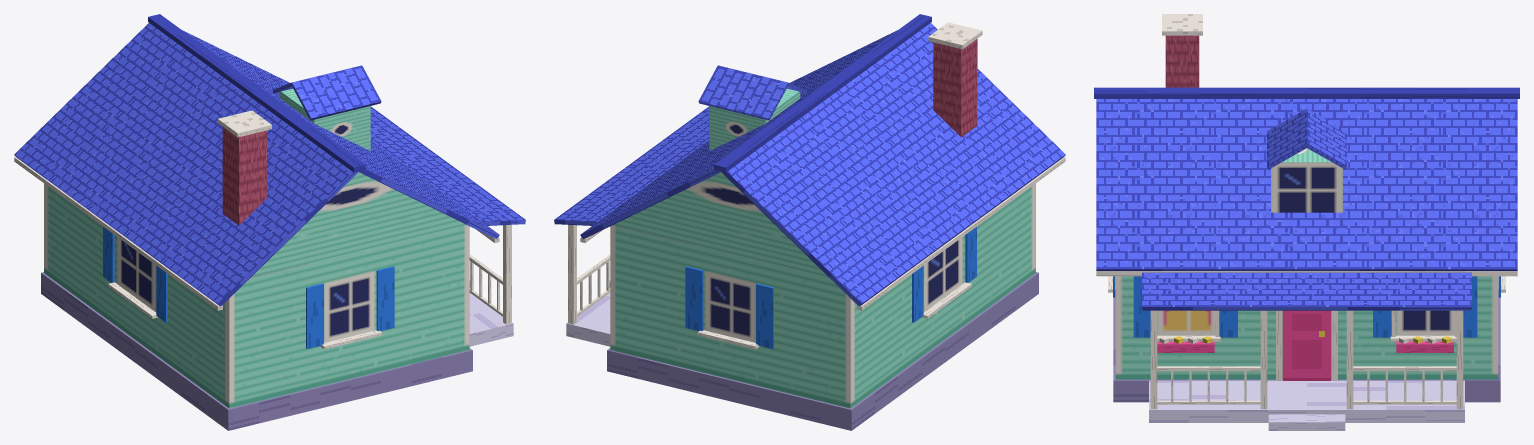
The model's file is House.fbx.
The picture shows the model from 3 angles, left to right: view 1: azimuth 30°, elevation 25°; view 2: azimuth 150°, elevation 25°; view 3: azimuth 270°, elevation 25°; orthographic projection. The views are drawn at different scales.
Parts seen in each view (by area): view 1: House roof back, House walls, House foundation, House gables, House roof front, House porch roof, House chimney, House ridge, House dormer roof 1, House dormer, House porch, House gutter back (+6 smaller); view 2: House roof back, House walls, House foundation, House gables, House roof front, House porch roof, House chimney, House ridge, House dormer roof -1, House dormer, House porch, House gutter back (+6 smaller); view 3: House roof front, House walls, House porch roof, House porch, House ridge, House dormer, House door.001, House foundation, House chimney, House dormer roof -1, House dormer roof 1, House step (+16 smaller).
Boxes of the visible parts, x1,y1,x2,y2 form: House roof back: (14, 23, 358, 306); House walls: (44, 183, 469, 408); House foundation: (41, 272, 472, 430); House gables: (251, 172, 466, 277); House roof front: (182, 30, 499, 239); House porch roof: (370, 106, 525, 225); House chimney: (222, 127, 266, 225); House ridge: (148, 14, 365, 172); House dormer roof 1: (292, 65, 381, 120); House dormer: (279, 88, 370, 150); House porch: (469, 293, 513, 346); House gutter back: (14, 157, 222, 310); House roof back: (721, 23, 1065, 306); House walls: (610, 183, 1035, 408); House foundation: (607, 272, 1038, 430); House gables: (613, 172, 828, 277); House roof front: (580, 30, 897, 239); House porch roof: (554, 106, 709, 225); House chimney: (933, 39, 977, 137); House ridge: (714, 14, 931, 172); House dormer roof -1: (698, 65, 787, 120); House dormer: (709, 88, 800, 150); House porch: (566, 293, 610, 346); House gutter back: (857, 157, 1065, 310); House roof front: (1096, 99, 1517, 271); House walls: (1115, 276, 1498, 379); House porch roof: (1142, 272, 1471, 310); House porch: (1149, 380, 1464, 422); House ridge: (1094, 87, 1519, 98); House dormer: (1271, 148, 1342, 212); House door.001: (1283, 310, 1330, 380); House foundation: (1113, 293, 1500, 402); House chimney: (1165, 35, 1199, 87); House dormer roof -1: (1305, 109, 1346, 169); House dormer roof 1: (1267, 109, 1307, 169); House step: (1268, 414, 1345, 430).
Size of the model in its own units: 8.42 by 6.49 by 8.9.
Materials: 12 (12 with a texture image).
